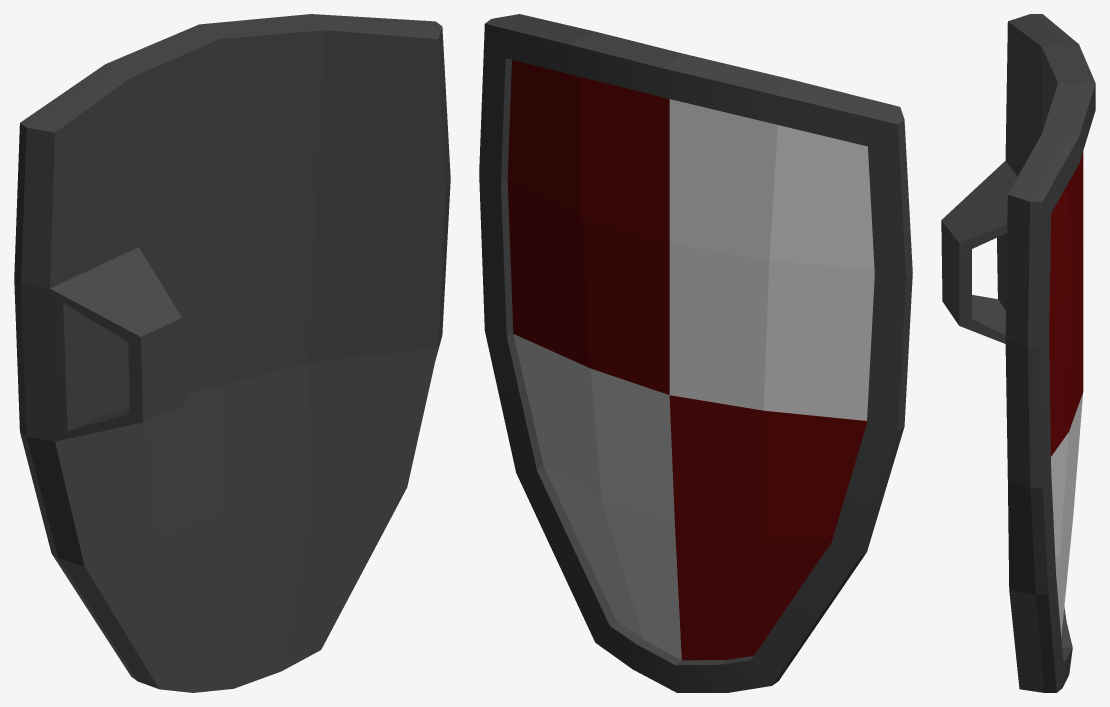
The model's file is SoldierShield.fbx.
3 views of the same model, side by side, from view 1: azimuth 30°, elevation 25°; view 2: azimuth 150°, elevation 25°; view 3: azimuth 270°, elevation 25° (orthographic). The views are drawn at different scales.
Parts seen in each view (by area): view 1: SoldierShield; view 2: SoldierShield; view 3: SoldierShield.
Part boxes in pixels (bbox=[...]): SoldierShield: bbox=[14, 14, 450, 692]; SoldierShield: bbox=[479, 14, 912, 692]; SoldierShield: bbox=[941, 14, 1095, 692].
Size of the model in its own units: 0.5594 by 0.795 by 0.1879.
